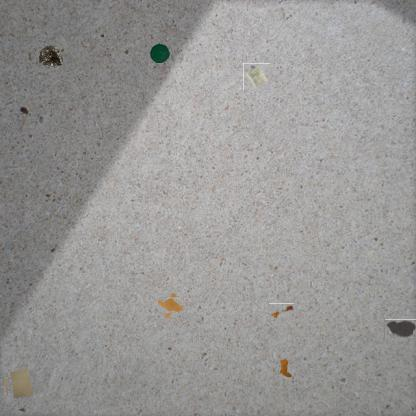dirty: (6, 371, 35, 399), (243, 63, 270, 90), (36, 43, 63, 69), (148, 42, 172, 66), (268, 303, 294, 320), (278, 357, 296, 379)
liquid: (384, 319, 416, 338), (160, 294, 180, 316)
